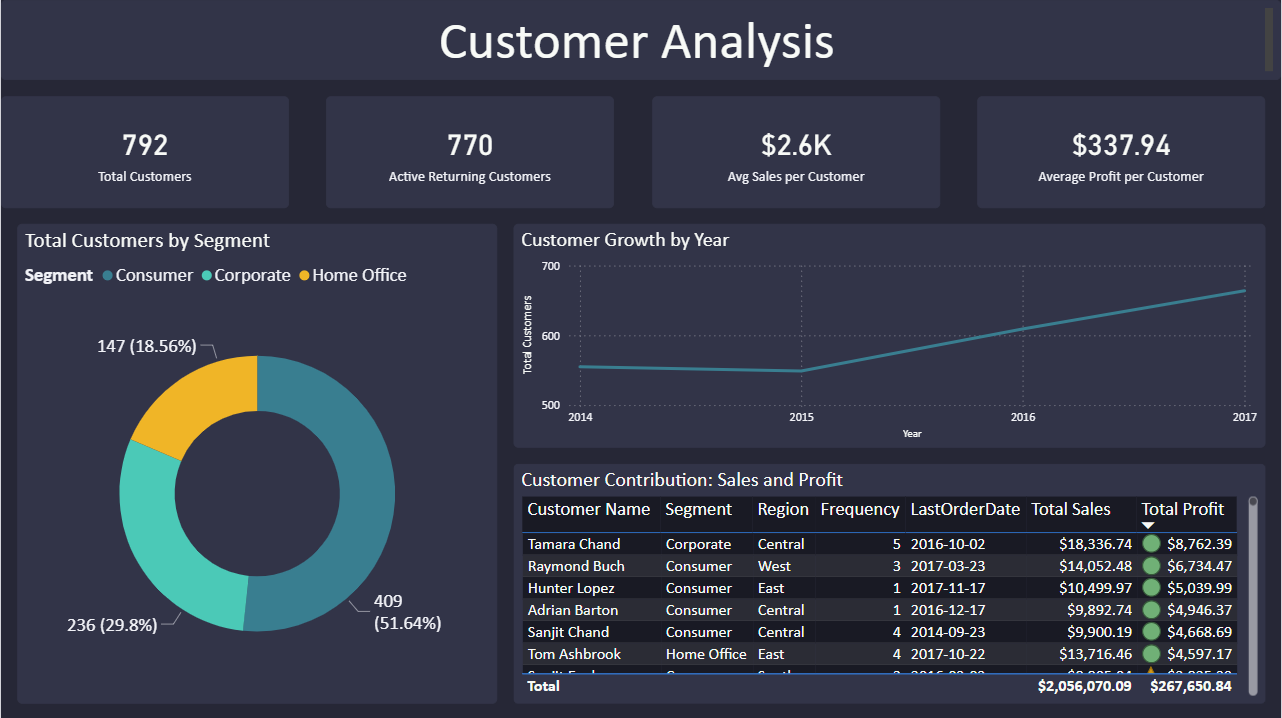

Layout of this report page (visuals, bound fields, positions):
{"tool":"powerbi","page":{"name":"Customers Analysis","canvas":[1280,720],"ordinal":3},"visuals":[{"type":"textbox","box":[0,0,1280,80],"z":0},{"type":"donutChart","title":"Customers by Segment","fields":{"Y":["Orders.Total Customers"],"Category":["Orders.Segment"]},"box":[16,224,480,480],"z":1000},{"type":"card","fields":{"Values":["Orders.Avg Sales per Customer"]},"box":[650.7,96,288,112],"z":2000},{"type":"tableEx","title":"Customer Contribution: Sales and Profit","fields":{"Values":["Orders.Customer Name","Orders.Segment","Orders.Region","CustomerMetrics.Frequency","CustomerMetrics.LastOrderDate","Orders.Total Sales","Orders.Total Profit"]},"box":[512,464,752,240],"z":3000},{"type":"card","fields":{"Values":["Orders.Total Customers"]},"box":[0,96,288,112],"z":4000},{"type":"card","fields":{"Values":["Orders.Repeat Customers"]},"box":[325.3,96,288,112],"z":5000},{"type":"card","fields":{"Values":["Orders.Average Profit per Customer"]},"box":[976,96,288,112],"z":6000},{"type":"lineChart","title":"Customer Growth by Year","fields":{"Category":["Orders.Order Date.Variation.Date Hierarchy.Year"],"Y":["Orders.Total Customers"]},"box":[512,224,752,224],"z":7000}]}

Visuals, with their boxes in screenshot pixels (x1, y1, x2, y2), scaled from the page's 1280x720 canvas onto the 1282x718 screenshot:
textbox: [left=0, top=0, right=1281, bottom=80]
"Customers by Segment" donutChart: [left=16, top=223, right=497, bottom=702]
card - Orders.Avg Sales per Customer: [left=652, top=96, right=940, bottom=207]
"Customer Contribution: Sales and Profit" tableEx: [left=513, top=463, right=1266, bottom=702]
card - Orders.Total Customers: [left=0, top=96, right=288, bottom=207]
card - Orders.Repeat Customers: [left=326, top=96, right=614, bottom=207]
card - Orders.Average Profit per Customer: [left=978, top=96, right=1266, bottom=207]
"Customer Growth by Year" lineChart: [left=513, top=223, right=1266, bottom=447]
